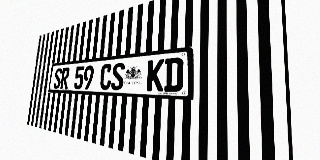5: (74, 66, 85, 89)
9: (82, 65, 94, 90)
C: (99, 63, 112, 90)
D: (164, 57, 184, 92)
K: (146, 59, 164, 91)
R: (60, 67, 70, 89)
S: (111, 62, 125, 90), (53, 68, 62, 89)
